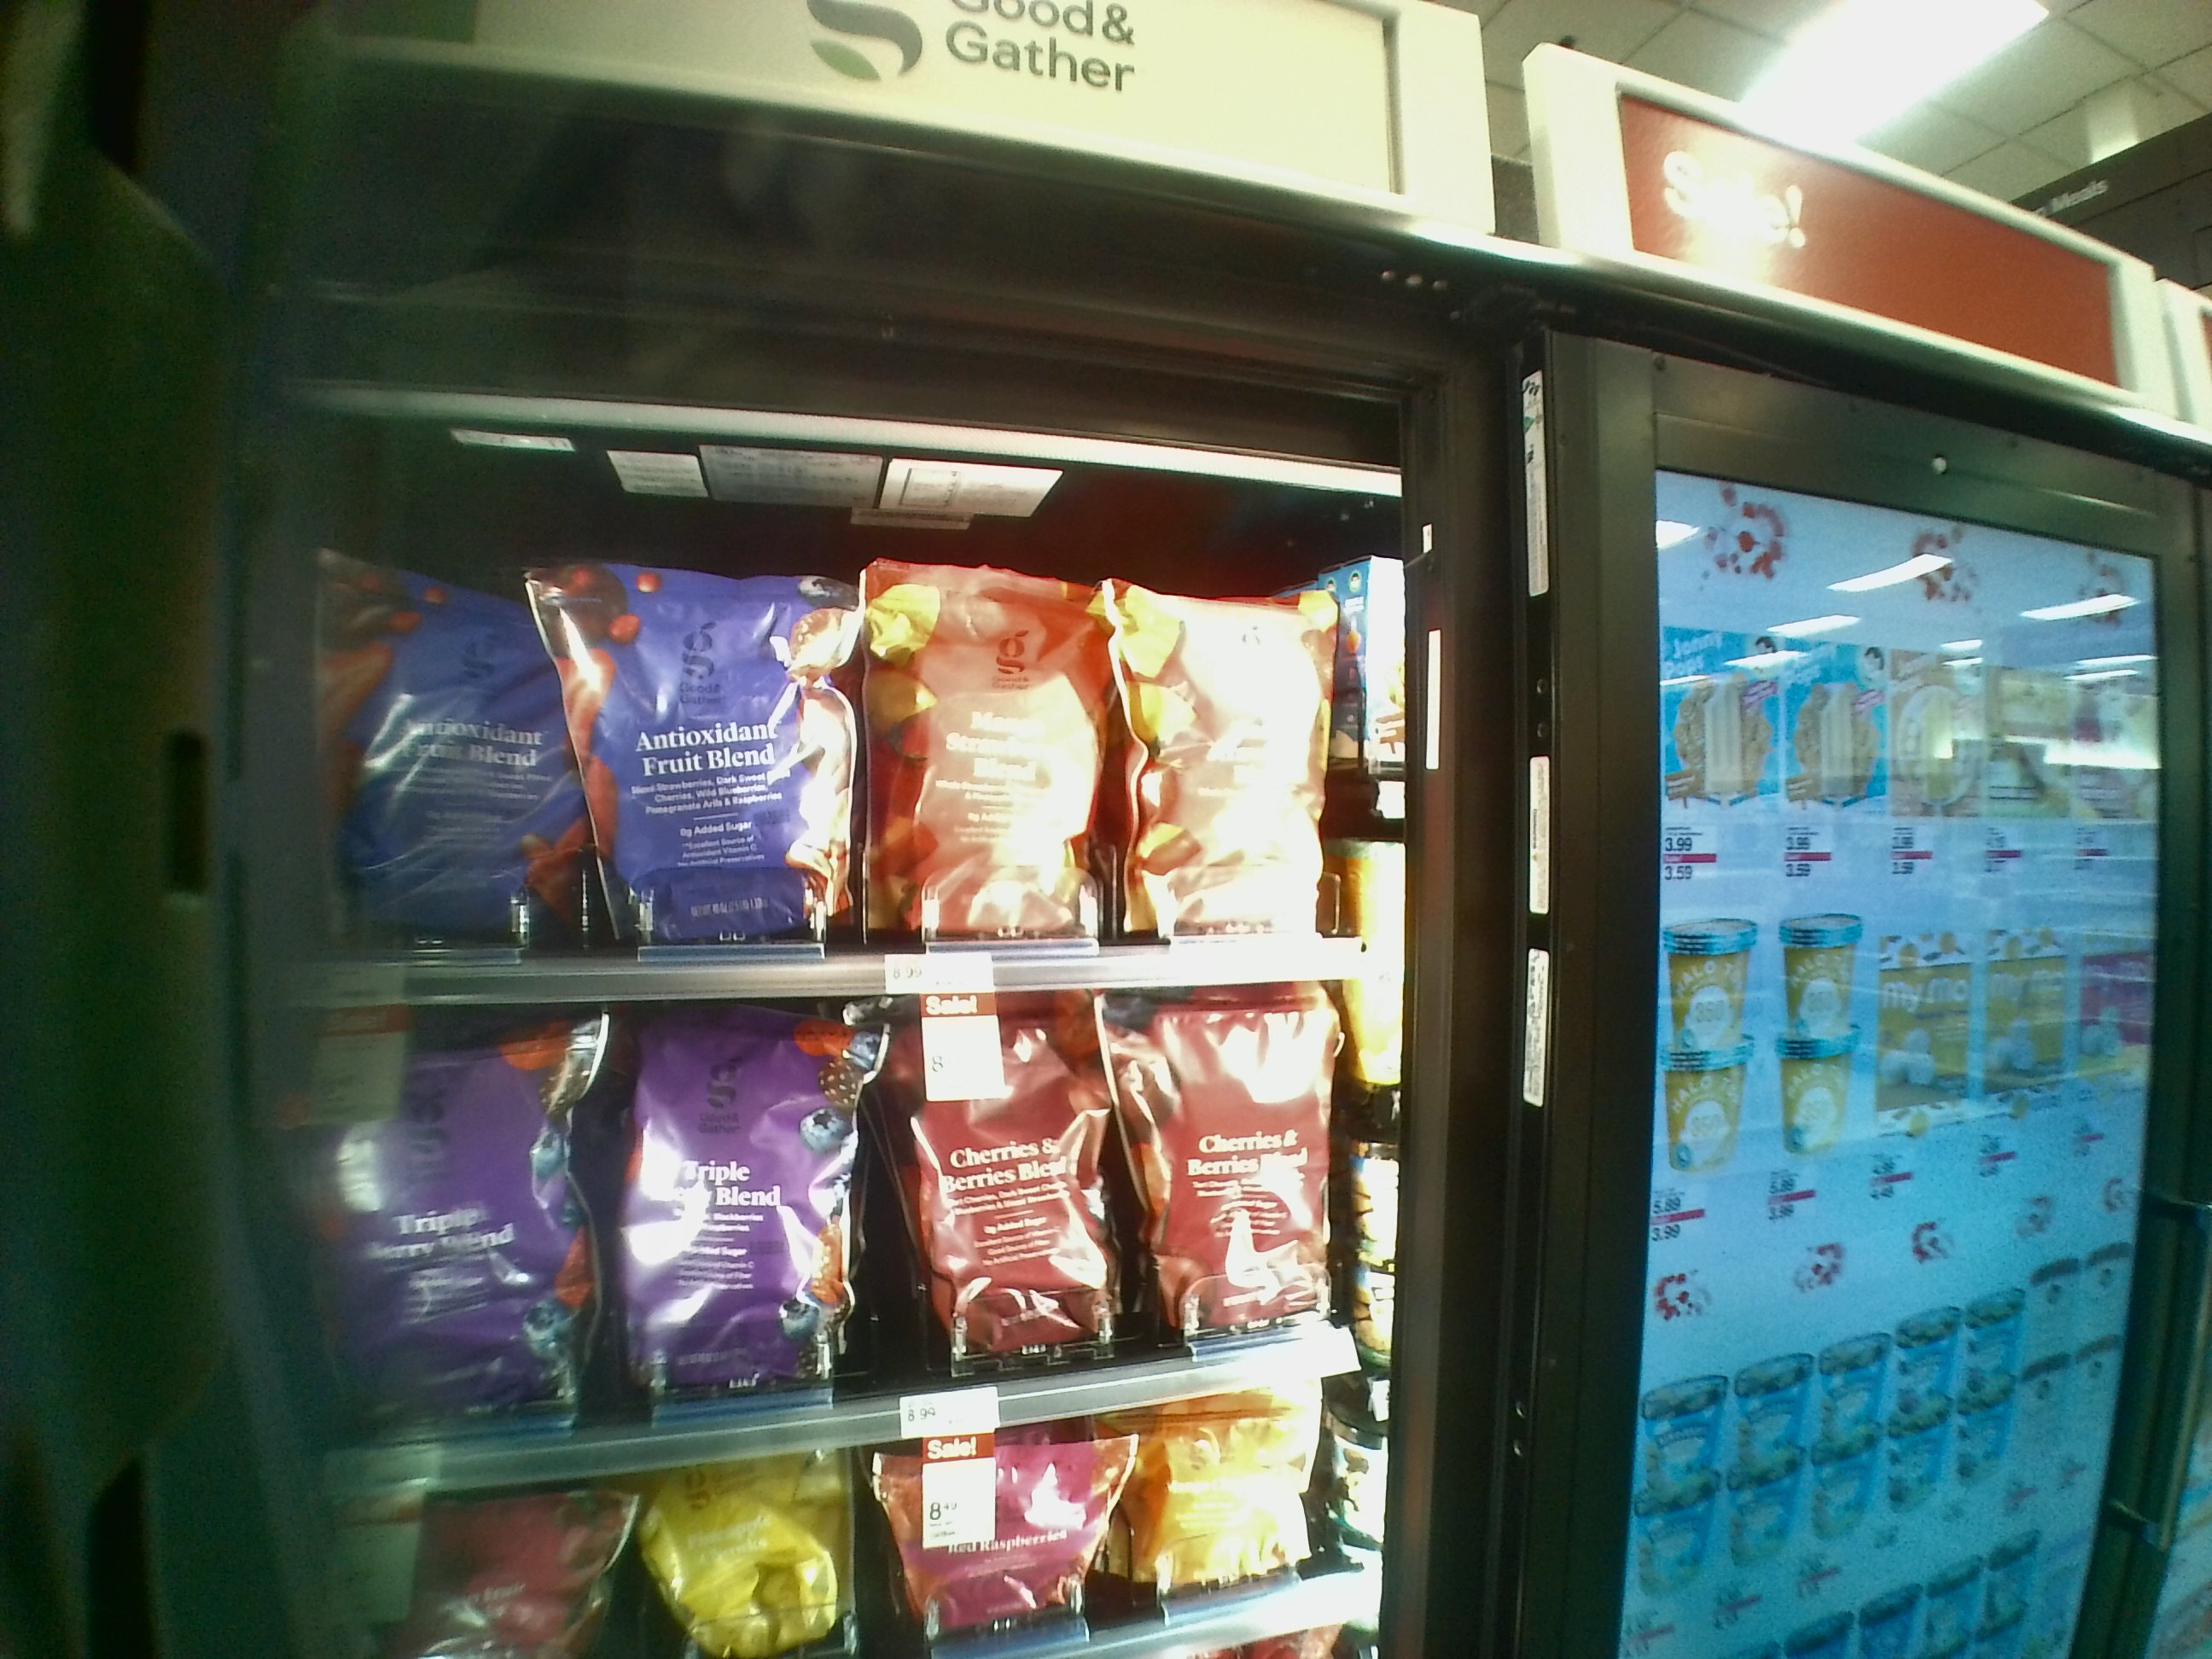shelf: (260, 410, 1404, 999), (280, 1007, 1395, 1443)
